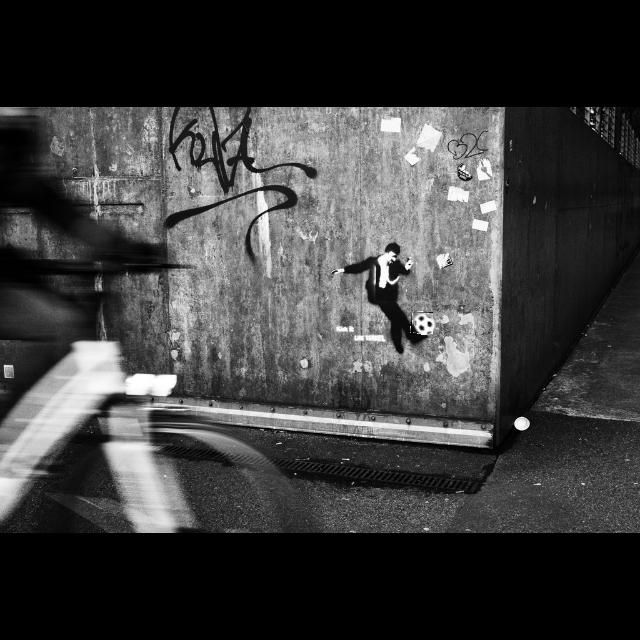Football: (411, 312, 433, 334)
